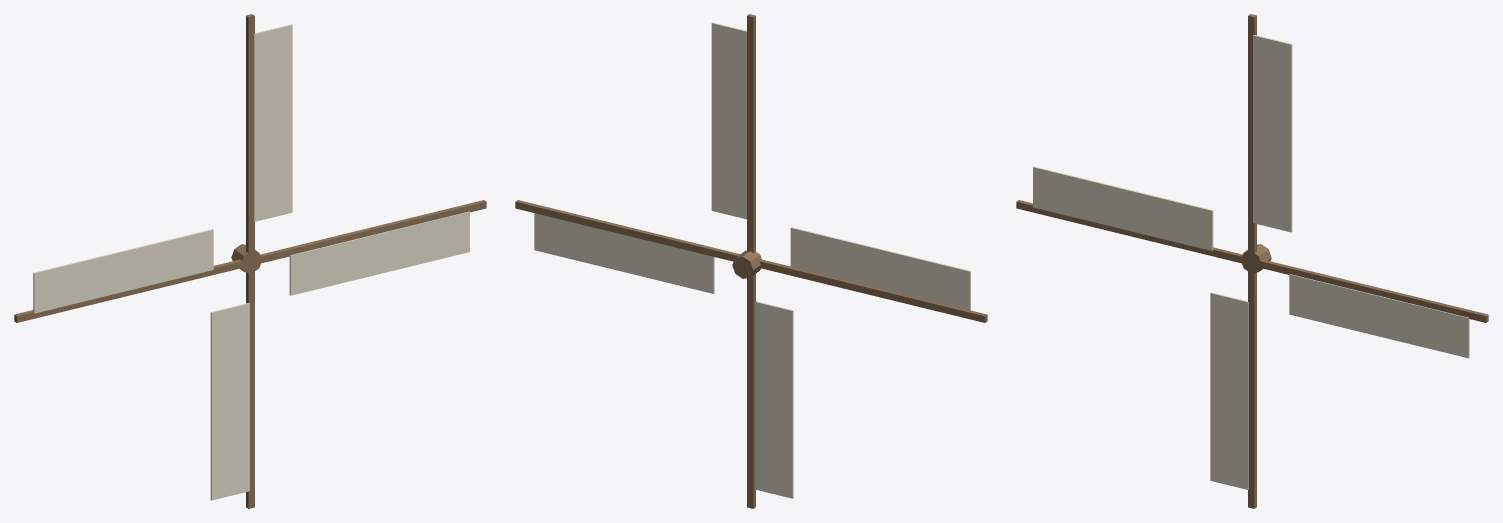
Rendered from windmill_sails.glb.
3 renders of one model, left to right at view 1: azimuth 30°, elevation 25°; view 2: azimuth 150°, elevation 25°; view 3: azimuth 330°, elevation 25°, orthographic.
Parts seen in each view (by area): view 1: windmill_sails; view 2: windmill_sails; view 3: windmill_sails.
Boxes of the visible parts, left/top/right/bottom form: windmill_sails: left=14, top=14, right=486, bottom=508; windmill_sails: left=515, top=14, right=987, bottom=508; windmill_sails: left=1016, top=14, right=1488, bottom=508.
Bounding box in the file's own units: 11 × 11 × 0.4203.
